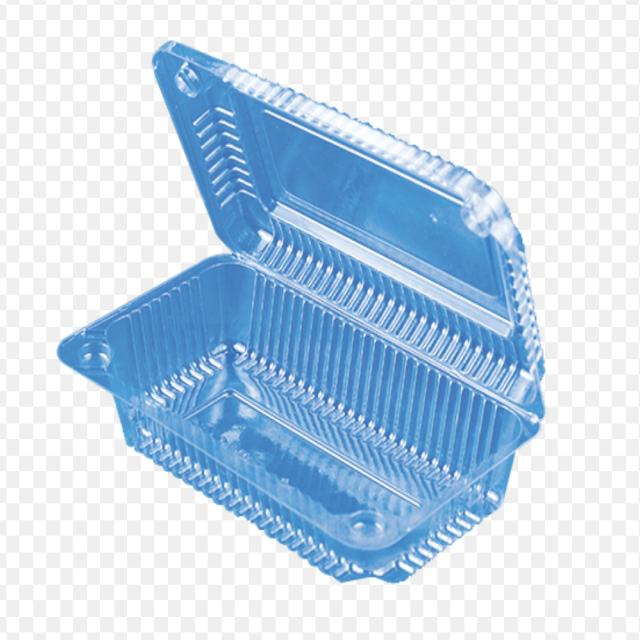recyclable: (48, 20, 591, 607)
